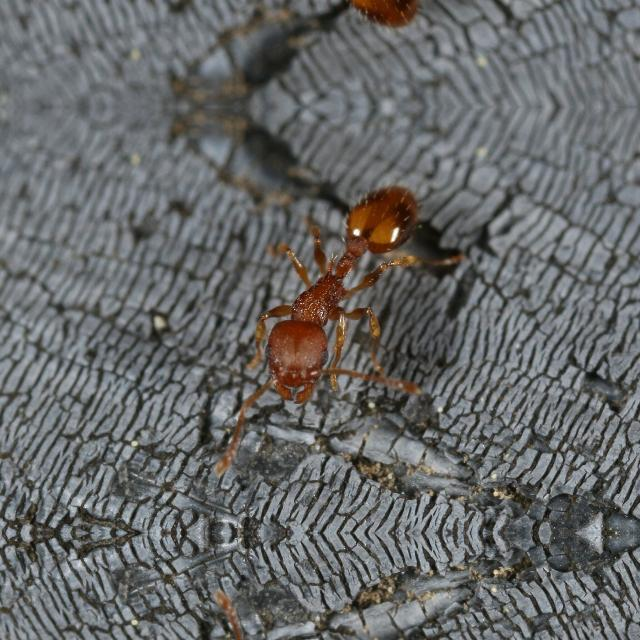Temnothorax: (170, 138, 490, 468), (169, 0, 488, 72)
